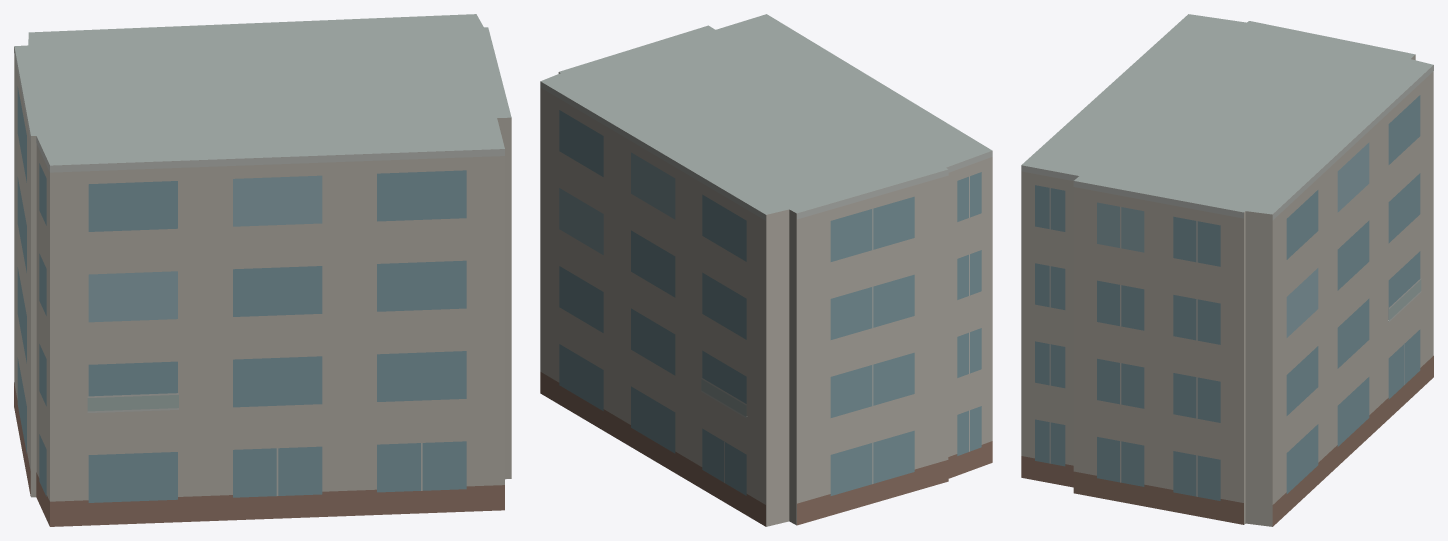
File: survey-upis-32636001.glb
3 renders of one model, left to right at view 1: azimuth 30°, elevation 25°; view 2: azimuth 150°, elevation 25°; view 3: azimuth 270°, elevation 25°, orthographic. The views are drawn at different scales.
Visible parts, largest first — view 1: survey-upis-32636001.tmp; view 2: survey-upis-32636001.tmp; view 3: survey-upis-32636001.tmp.
Boxes of the visible parts, bbox=[...] form: survey-upis-32636001.tmp: bbox=[14, 14, 511, 526]; survey-upis-32636001.tmp: bbox=[540, 14, 992, 526]; survey-upis-32636001.tmp: bbox=[1021, 14, 1433, 526].
Bounding box in the file's own units: 17.21 × 12.5 × 14.97.
